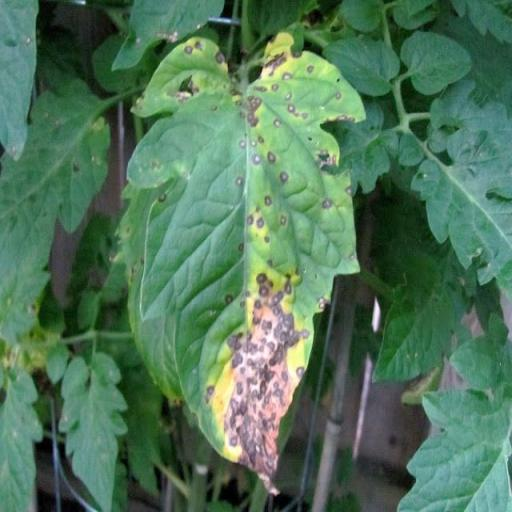disease_tomato: (126, 31, 374, 497)
